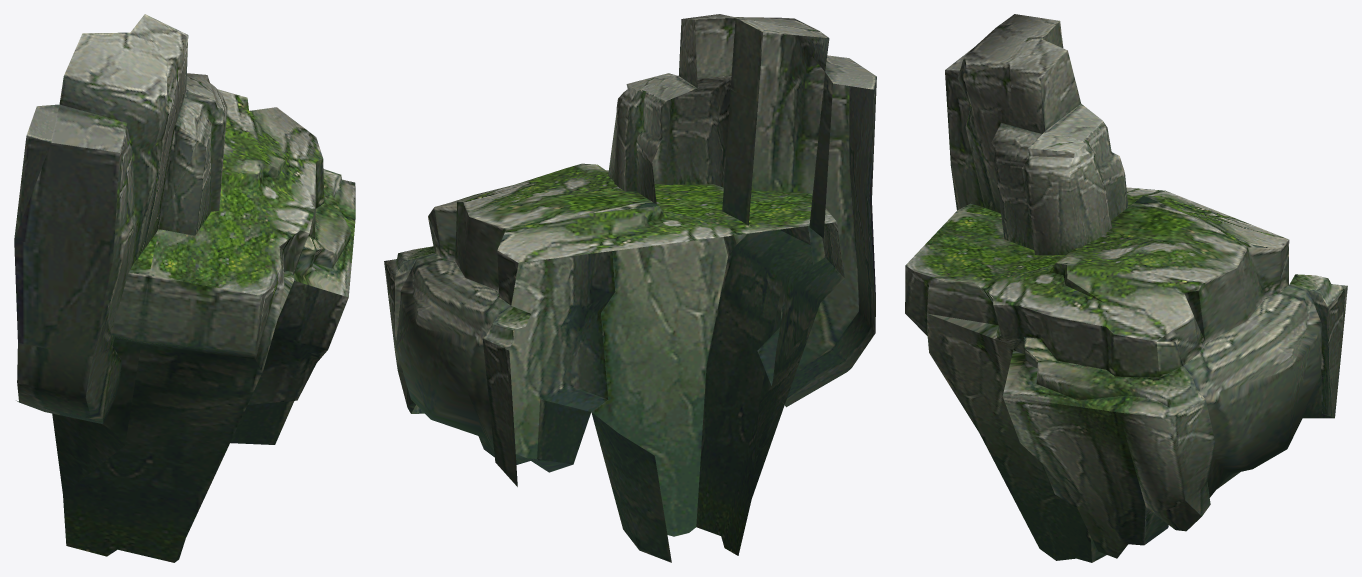
File: 4006_Item_shitou_5.FBX
3 renders of one model, left to right at view 1: azimuth 30°, elevation 25°; view 2: azimuth 150°, elevation 25°; view 3: azimuth 270°, elevation 25°, orthographic. The views are drawn at different scales.
Parts seen in each view (by area): view 1: 4006_Item_shitou_5; view 2: 4006_Item_shitou_5; view 3: 4006_Item_shitou_5.
Boxes of the visible parts, x1=… form: 4006_Item_shitou_5: x1=14, y1=14, x2=355, y2=562; 4006_Item_shitou_5: x1=384, y1=14, x2=876, y2=562; 4006_Item_shitou_5: x1=905, y1=14, x2=1347, y2=562.
Size of the model in its own units: 505 by 502 by 624.
